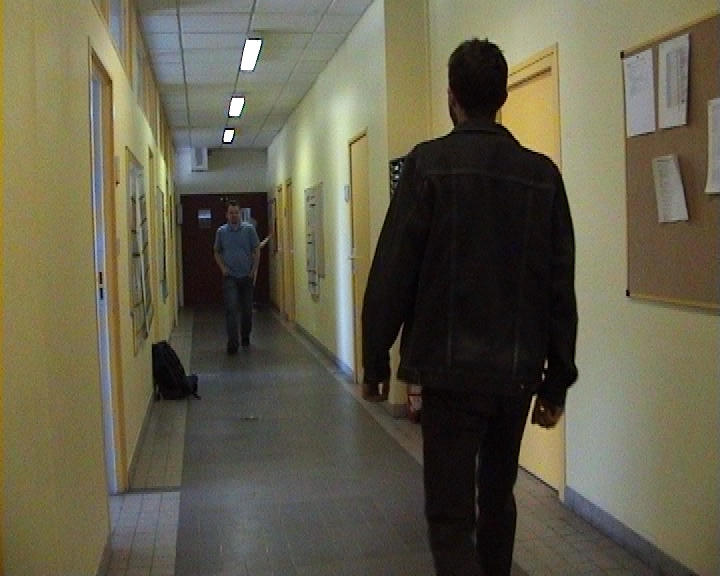leave bag unattended: (134, 321, 210, 412)
